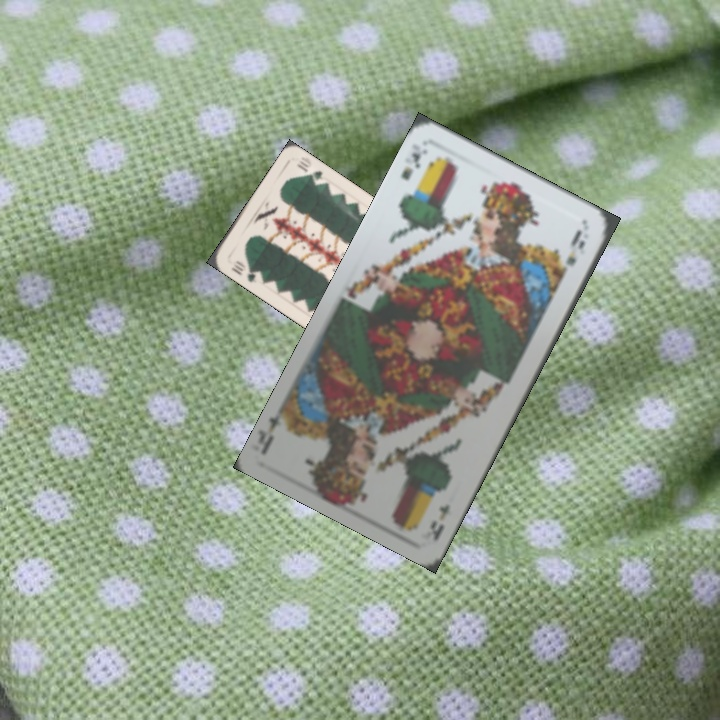EK: (397, 139, 431, 183), (426, 500, 453, 544)
G10: (227, 256, 264, 286)
